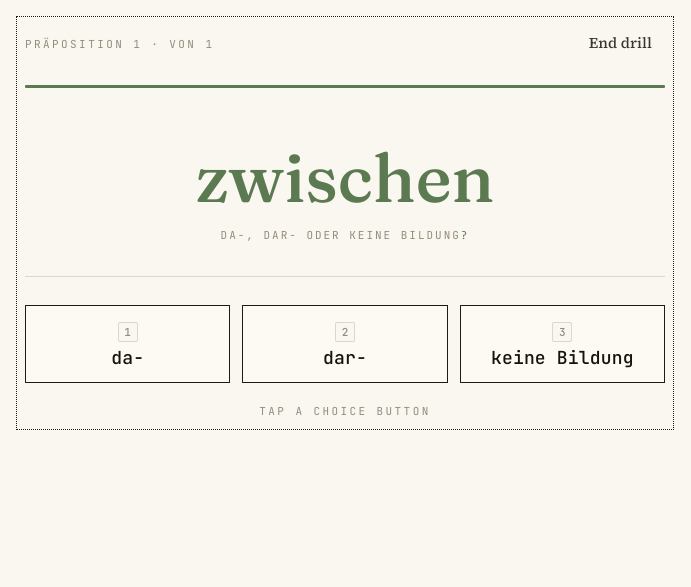
Test: FormationRunner — smoke tests › reveals feedback after clicking a wrong choice
Click the button with class "choice" showing "3 keine Bildung".
click(562, 344)  # box [460,305,665,383]
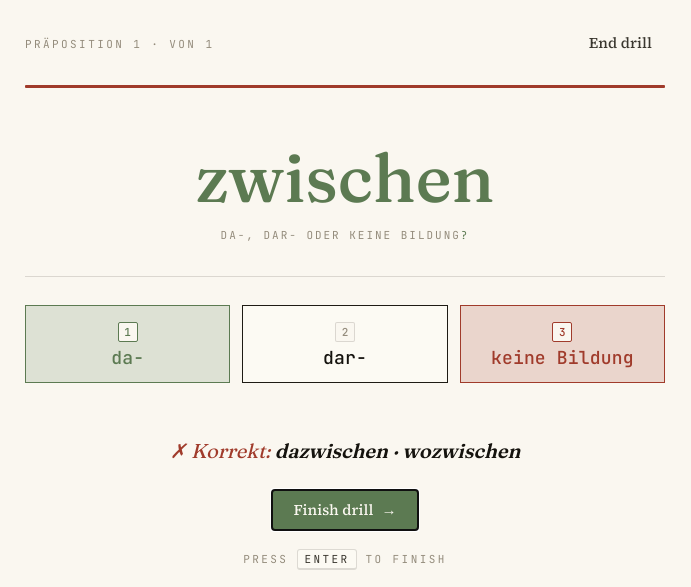
Check: the element with class "drill-feedback" is shown, box [170,438,520,531]
